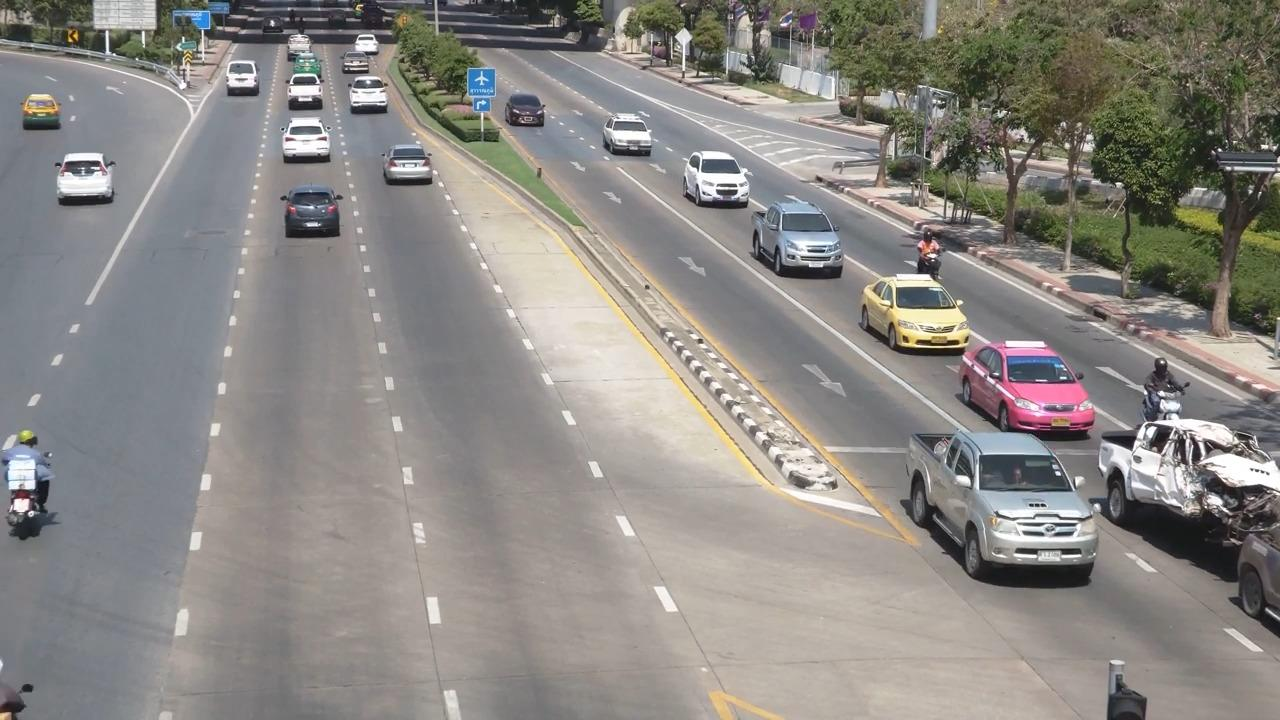CAR: (901, 421, 1098, 582), (960, 332, 1100, 444), (743, 185, 854, 295), (852, 267, 979, 362), (47, 143, 128, 222), (275, 181, 356, 247), (676, 146, 756, 210), (271, 109, 344, 175), (375, 133, 451, 193), (594, 104, 660, 165), (16, 86, 73, 145), (342, 76, 398, 125), (221, 52, 272, 104), (282, 72, 332, 116), (507, 84, 549, 130), (346, 62, 385, 97), (350, 27, 384, 57), (338, 56, 372, 85), (291, 60, 326, 88), (282, 30, 313, 58)
MOTOR: (0, 420, 60, 544), (1131, 350, 1194, 441), (911, 225, 945, 289)
